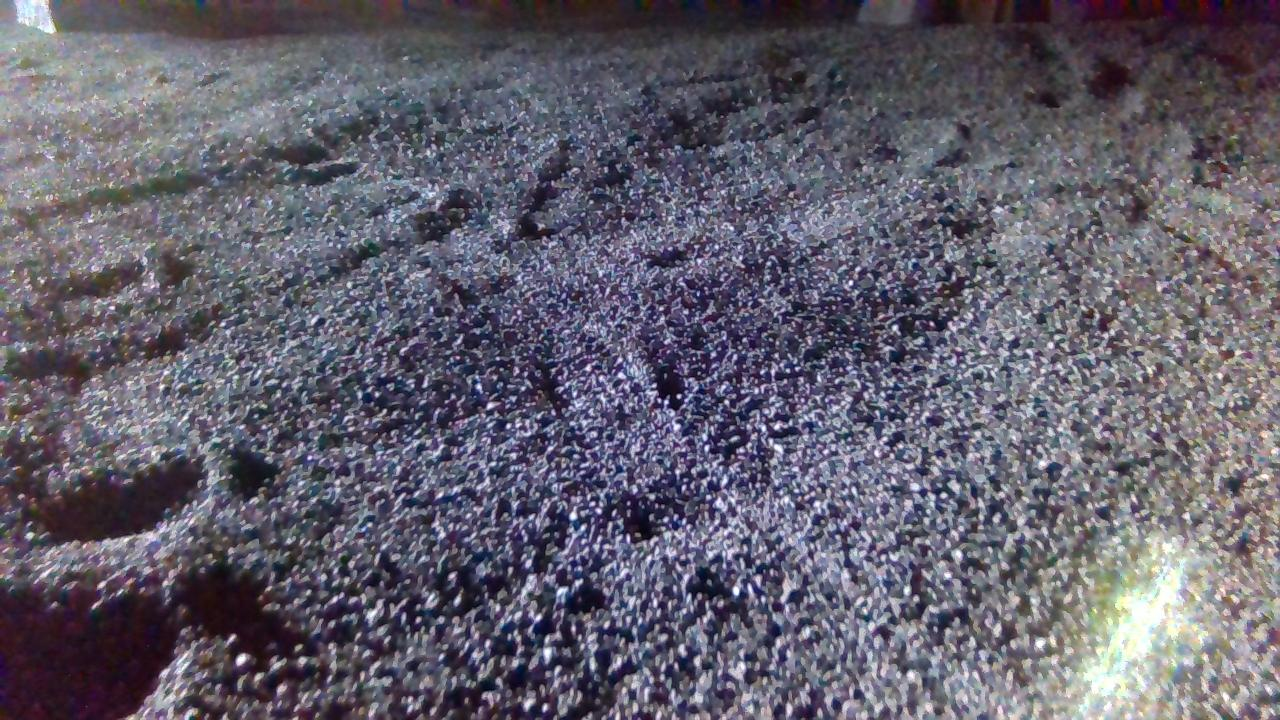rock: (860, 0, 917, 23), (12, 0, 54, 31)
